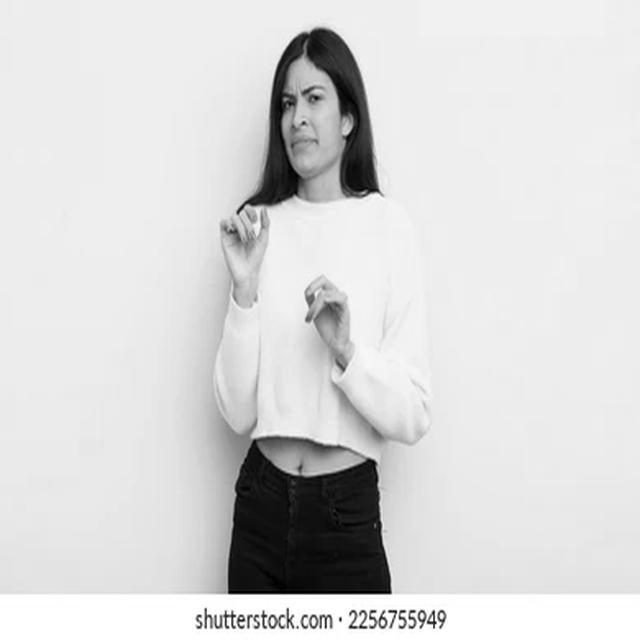Disgust: (281, 59, 342, 176)
